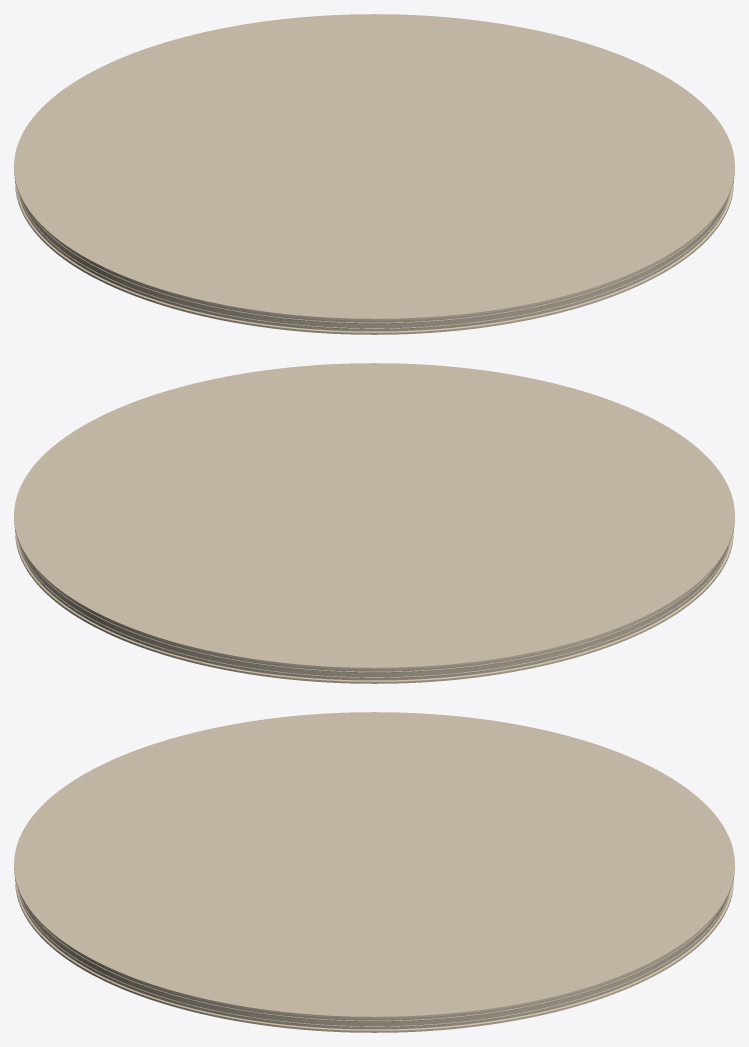
The picture shows the model from 3 angles, top to bottom: view 1: azimuth 30°, elevation 25°; view 2: azimuth 150°, elevation 25°; view 3: azimuth 270°, elevation 25°; orthographic projection.
Parts seen in each view (by area): view 1: Base_1; view 2: Base_1; view 3: Base_1.
Part boxes in pixels (x1,y1,x2,y2): Base_1: (14,14,734,334); Base_1: (14,363,734,683); Base_1: (14,712,734,1032).
Size of the model in its own units: 5650 by 5650 by 150.
